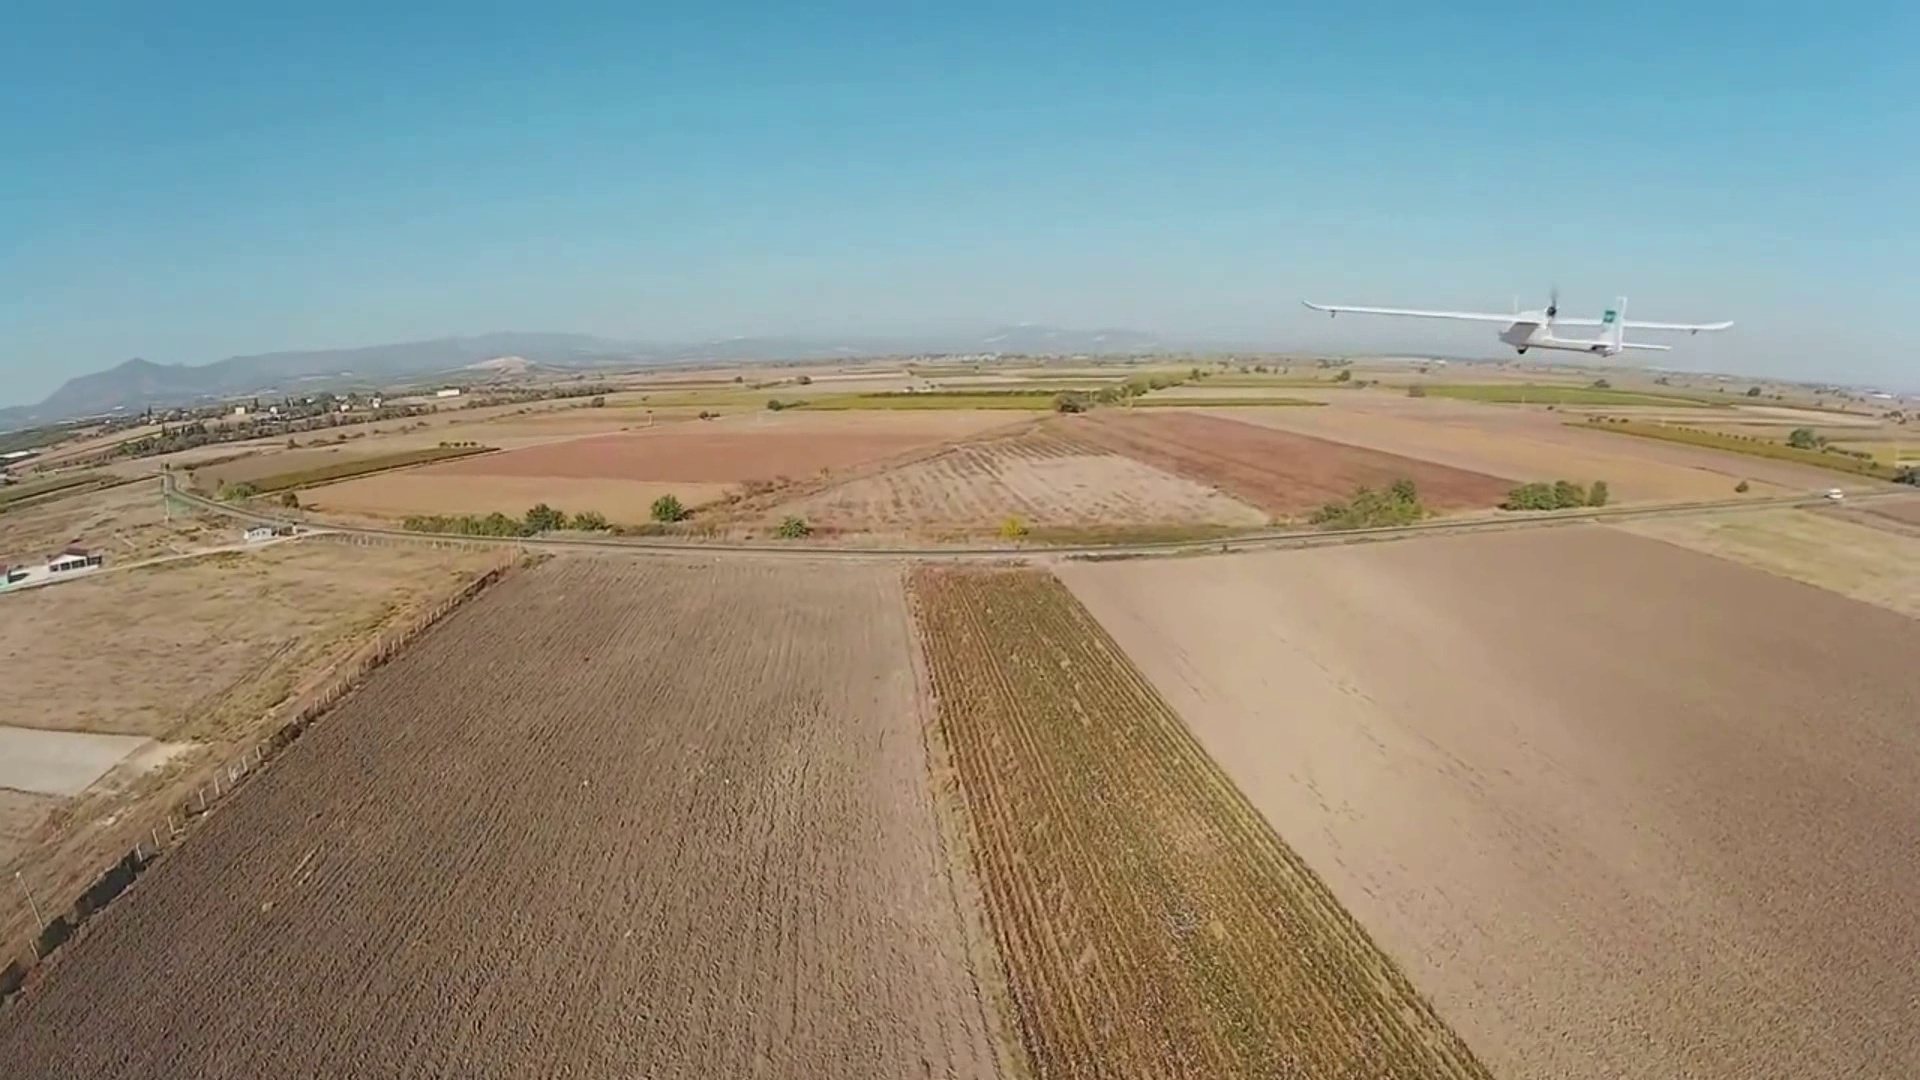airplane: (1299, 287, 1733, 367), (1298, 289, 1625, 363)
